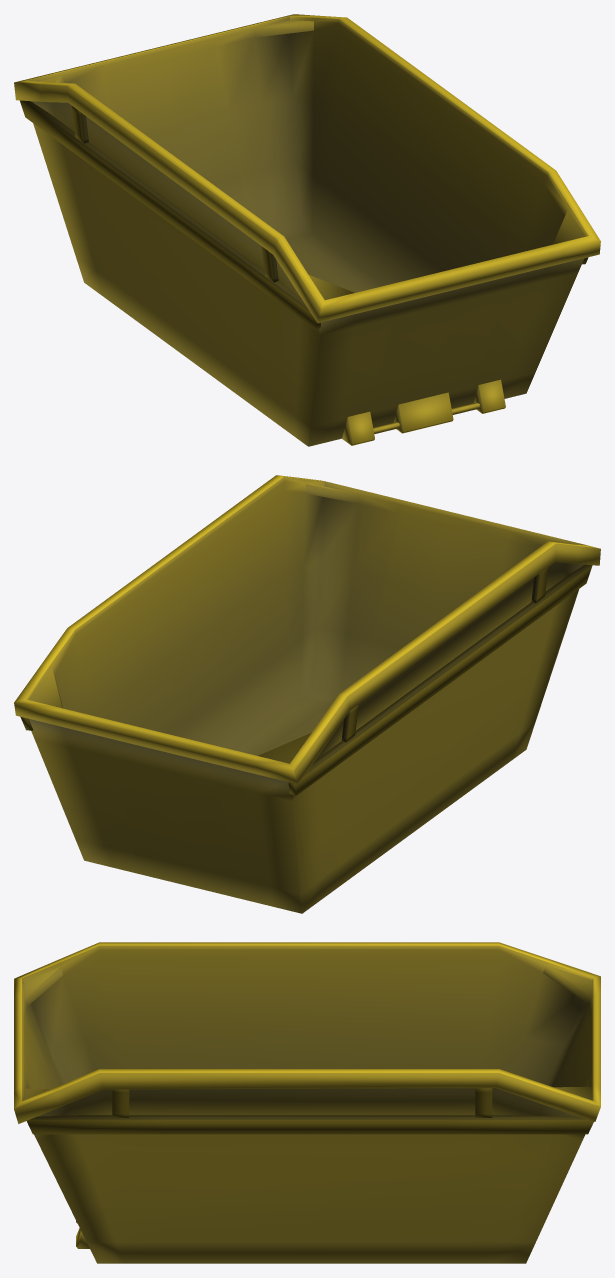
3 renders of one model, top to bottom at view 1: azimuth 30°, elevation 25°; view 2: azimuth 150°, elevation 25°; view 3: azimuth 270°, elevation 25°, orthographic. The views are drawn at different scales.
Parts seen in each view (by area): view 1: color.006; view 2: color.006; view 3: color.006.
Part boxes in pixels (<box>): color.006: <box>14,14,600,446</box>; color.006: <box>14,475,600,913</box>; color.006: <box>14,942,600,1263</box>.
Size of the model in its own units: 0.2653 by 0.1932 by 0.5.
